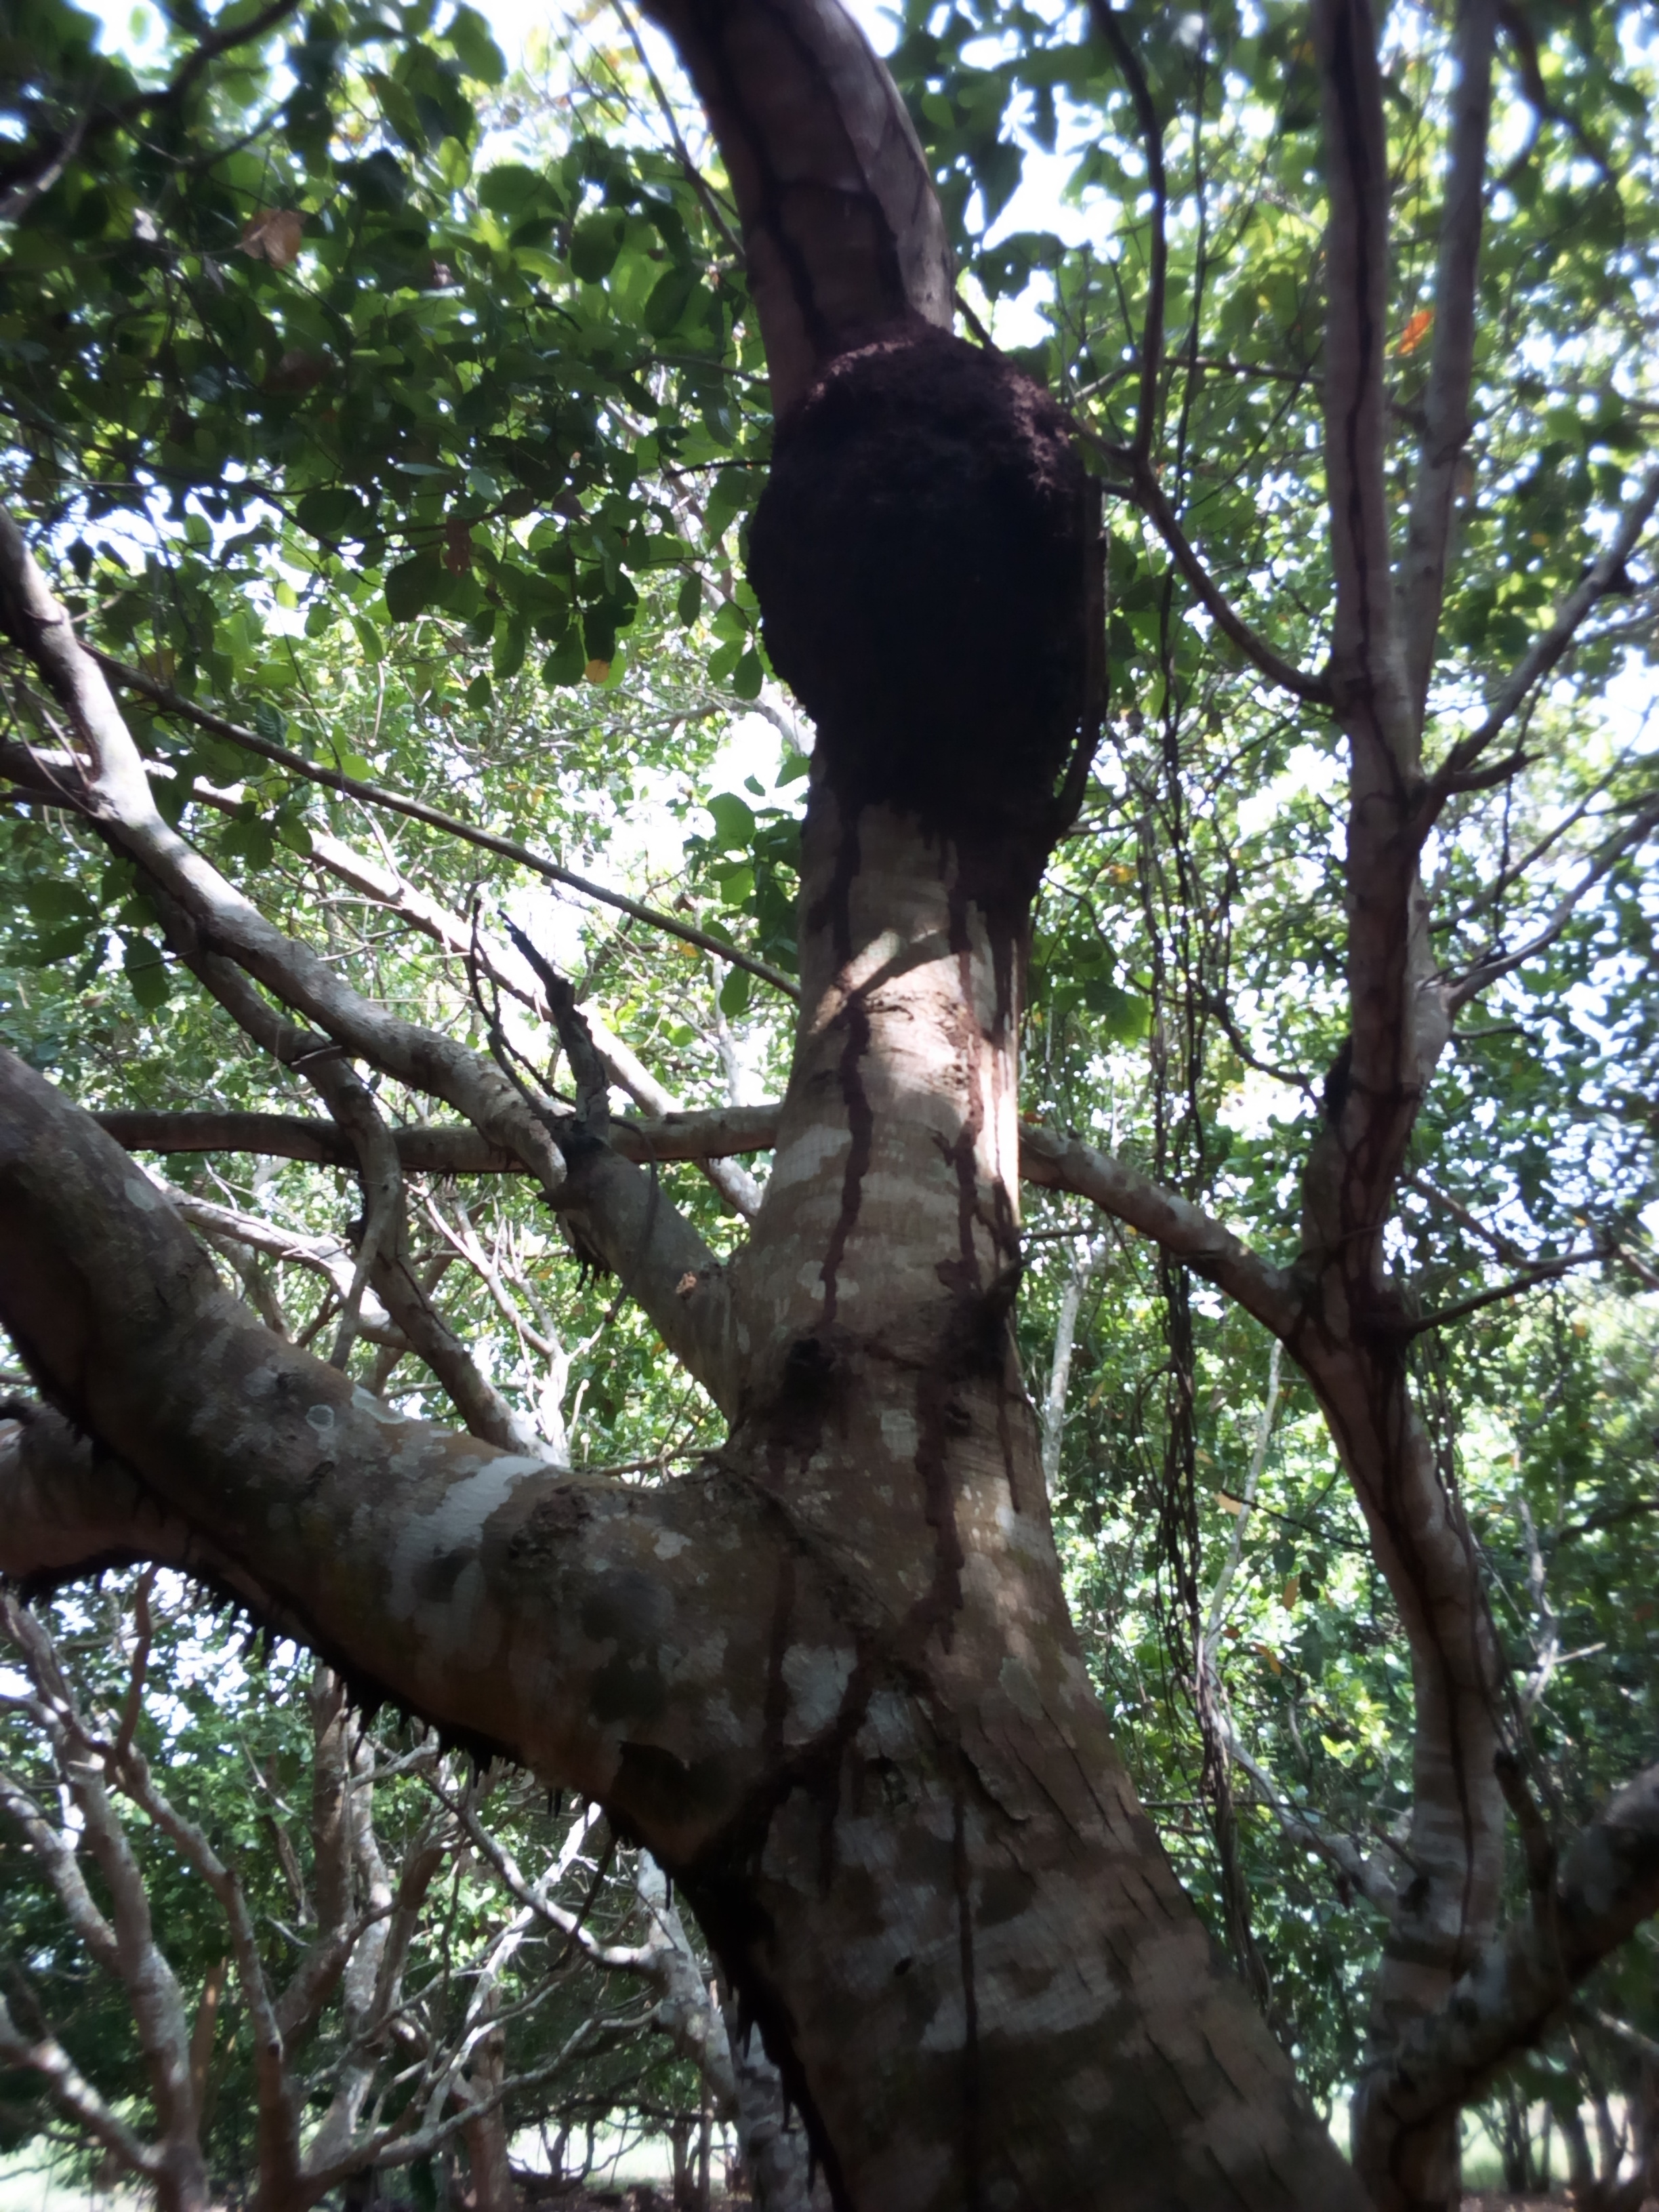Termites: (755, 350, 1110, 892), (819, 981, 988, 1336), (683, 1698, 904, 1930), (901, 1386, 972, 1655)
